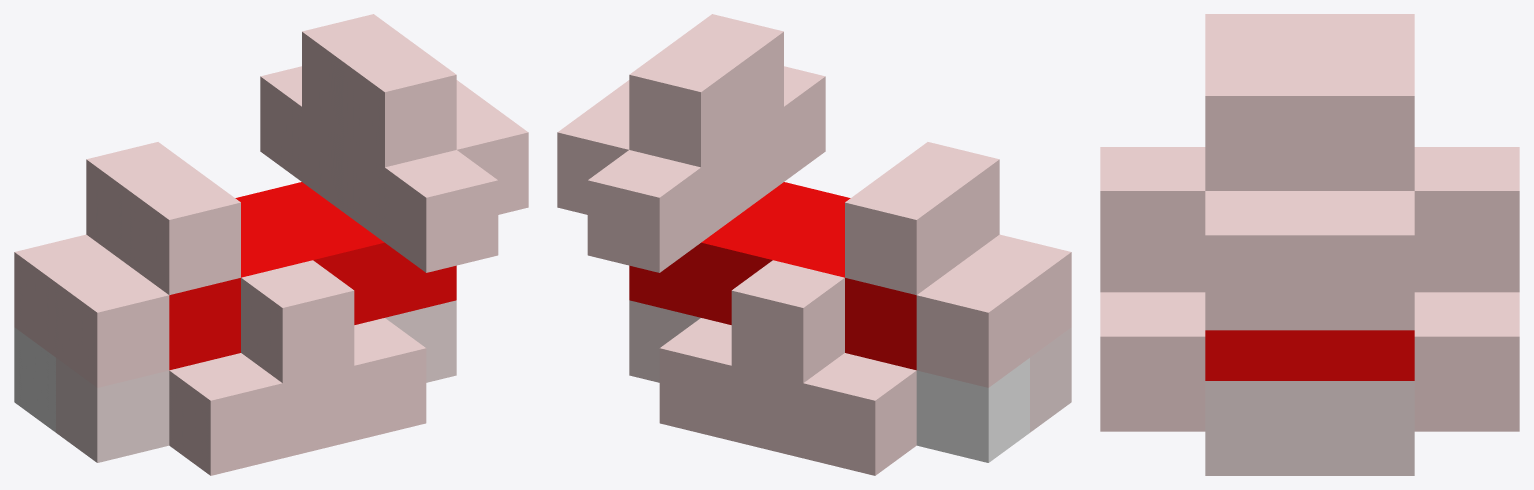
3 renders of one model, left to right at view 1: azimuth 30°, elevation 25°; view 2: azimuth 150°, elevation 25°; view 3: azimuth 270°, elevation 25°, orthographic. The views are drawn at different scales.
Parts seen in each view (by area): view 1: Layer.1; view 2: Layer.1; view 3: Layer.1.
Boxes of the visible parts, box(x1,y1,x2,y2) form: Layer.1: box(14, 14, 528, 475); Layer.1: box(557, 14, 1071, 475); Layer.1: box(1100, 14, 1519, 475).
Size of the model in its own units: 6 by 4 by 4.
1 material, 1 textured.
